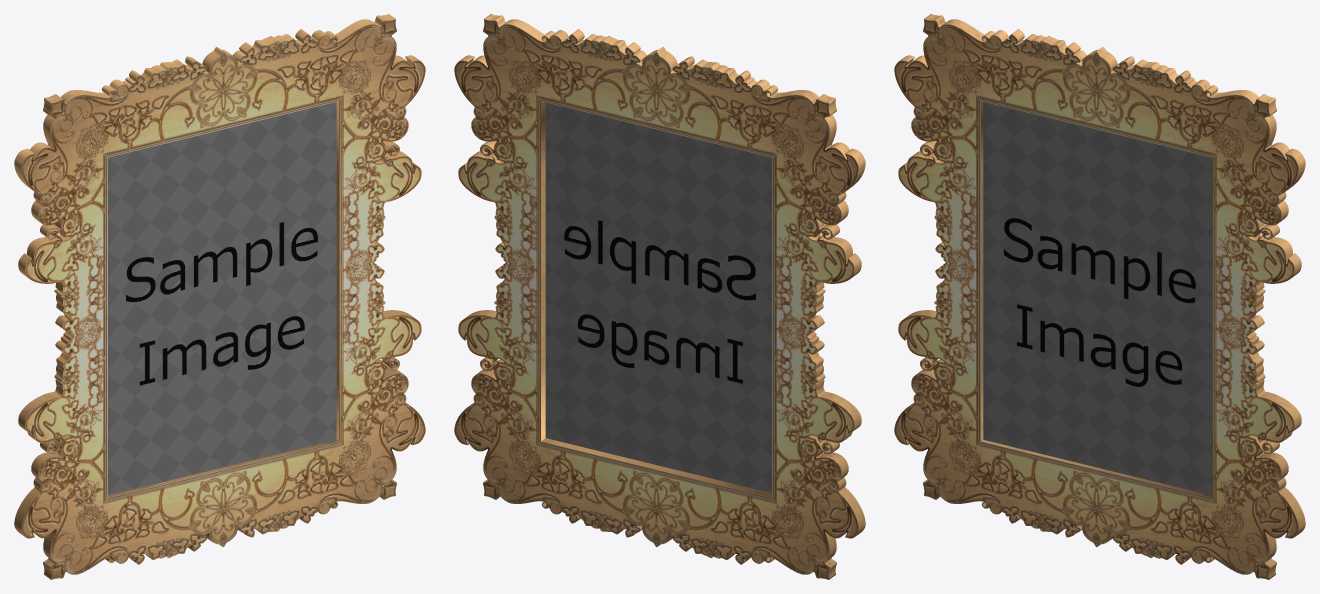
File: fbx_PictFrame.fbx
3 views of the same model, side by side, from view 1: azimuth 30°, elevation 25°; view 2: azimuth 150°, elevation 25°; view 3: azimuth 330°, elevation 25° (orthographic).
Parts seen in each view (by area): view 1: PictFrame, Picture; view 2: PictFrame, Picture; view 3: PictFrame, Picture.
Part boxes in pixels (x1,y1,x2,y2): PictFrame: [14, 14, 425, 579]; Picture: [108, 102, 336, 495]; PictFrame: [454, 14, 865, 579]; Picture: [545, 102, 771, 492]; PictFrame: [894, 14, 1305, 579]; Picture: [983, 102, 1211, 495].
Bounding box in the file's own units: 0.4318 × 0.5056 × 0.0129.
